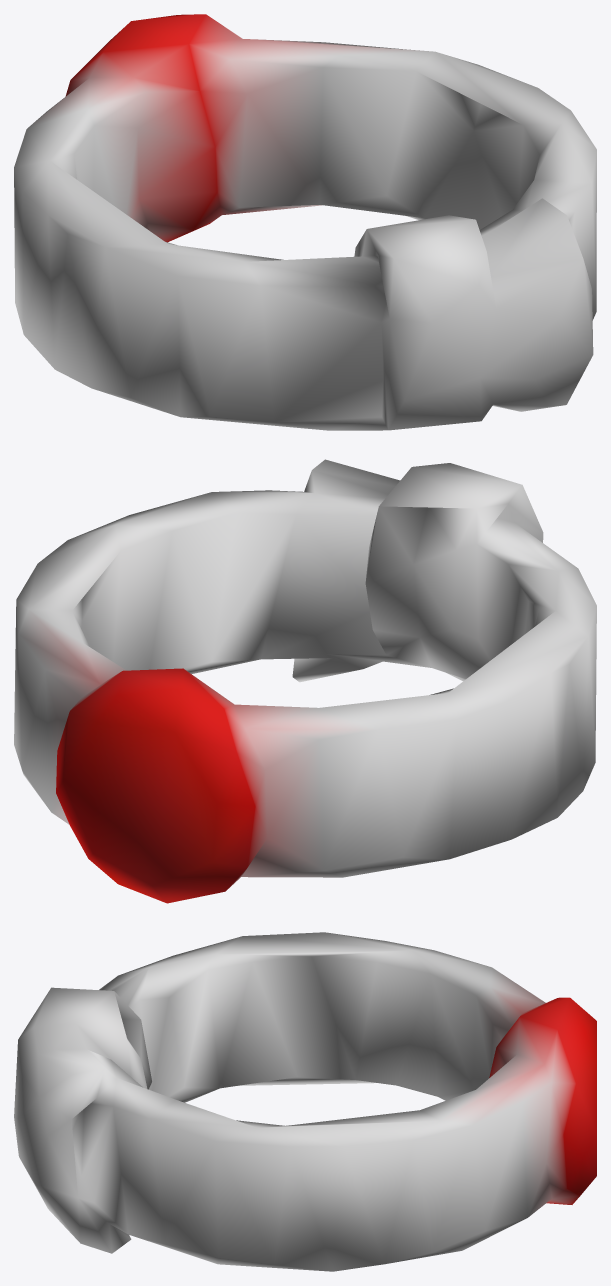
The model's file is hat_rps_headband.glb.
The picture shows the model from 3 angles, top to bottom: view 1: azimuth 30°, elevation 25°; view 2: azimuth 150°, elevation 25°; view 3: azimuth 270°, elevation 25°; orthographic projection. The views are drawn at different scales.
Visible parts, largest first — view 1: geometry_0; view 2: geometry_0; view 3: geometry_0.
Boxes of the visible parts, <box> form: geometry_0: <box>14,14,596,430</box>; geometry_0: <box>14,459,596,903</box>; geometry_0: <box>14,932,596,1271</box>.
Bounding box in the file's own units: 0.6175 × 0.2639 × 0.72.
